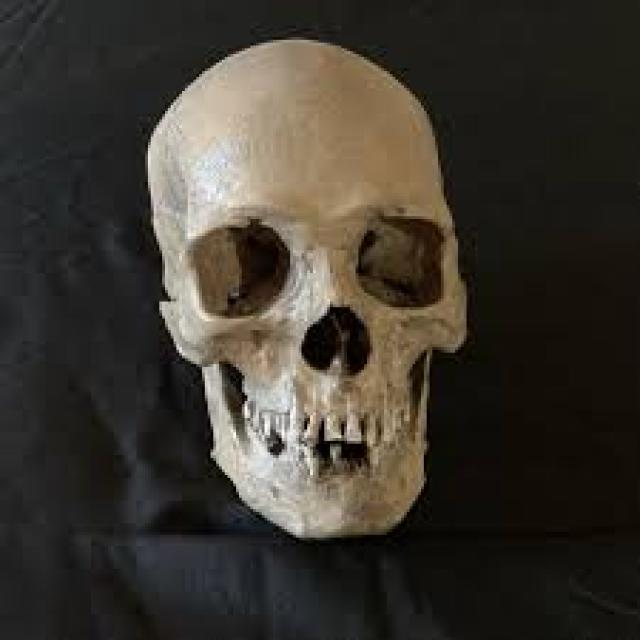skull: (136, 26, 486, 552)
